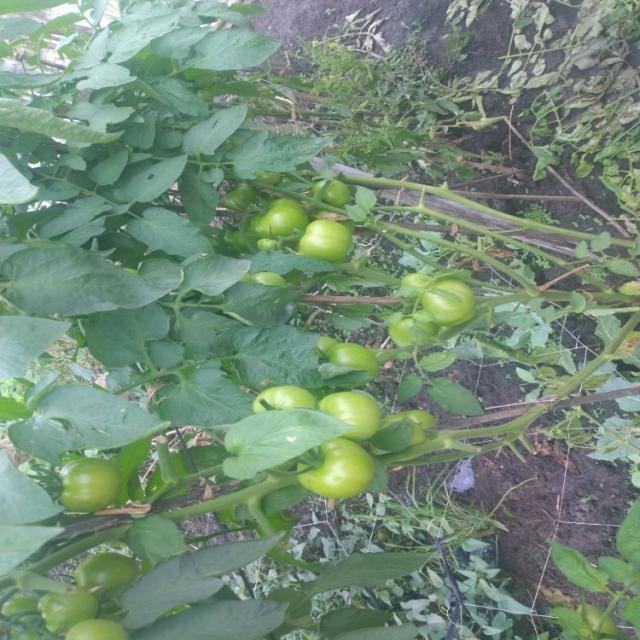tomato: (302, 437, 378, 508), (291, 210, 365, 276), (61, 456, 129, 520), (307, 334, 386, 385), (78, 550, 154, 602), (253, 384, 337, 430), (320, 381, 383, 441), (62, 602, 150, 640), (426, 275, 486, 327), (44, 577, 103, 626), (247, 194, 306, 242), (383, 304, 443, 351), (1, 588, 49, 640), (392, 263, 441, 300), (318, 167, 361, 209), (397, 406, 438, 444), (247, 266, 287, 302), (221, 176, 250, 202), (259, 232, 282, 252)
